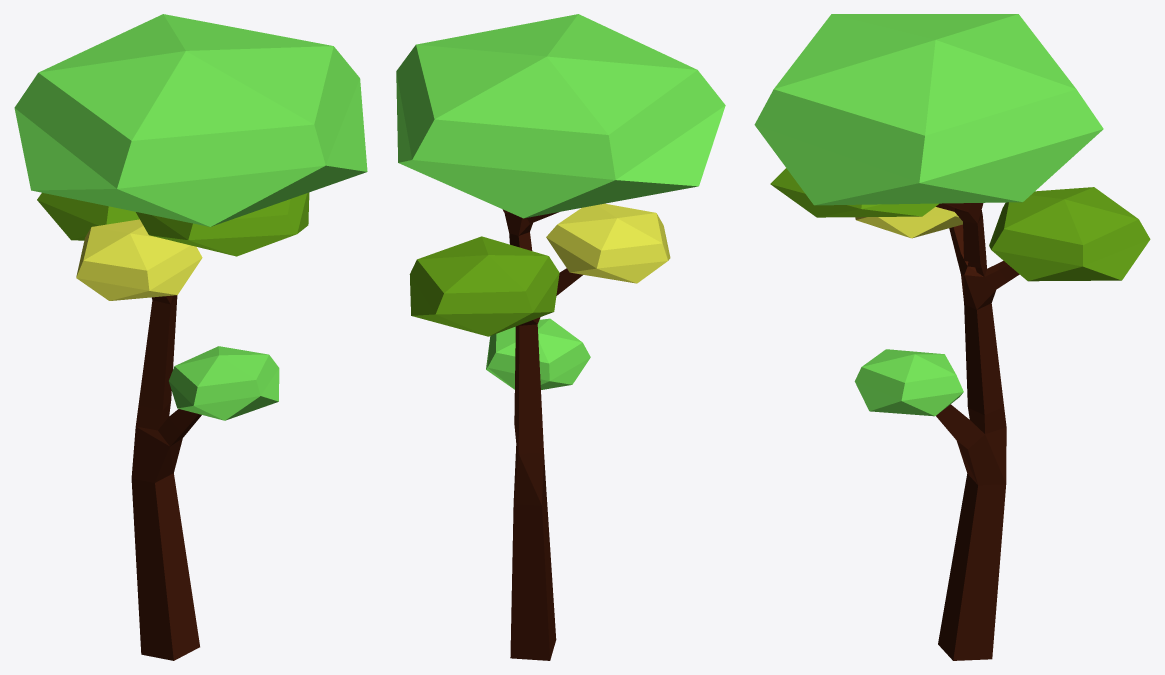
The model's file is RoundTree_v2.fbx.
3 views of the same model, side by side, from view 1: azimuth 30°, elevation 25°; view 2: azimuth 150°, elevation 25°; view 3: azimuth 270°, elevation 25° (orthographic). The views are drawn at different scales.
Visible parts, largest first — view 1: BigLeaf, TreeTrunk, 2ndRowLeaf_2, LowLeaf, Leaf, 2ndRowLeaf; view 2: BigLeaf, TreeTrunk, 2ndRowLeaf, 2ndRowLeaf_2, LowLeaf; view 3: BigLeaf, TreeTrunk, 2ndRowLeaf, LowLeaf, Leaf, 2ndRowLeaf_2.
Boxes of the visible parts, bbox=[...] form: BigLeaf: bbox=[14, 14, 367, 226]; TreeTrunk: bbox=[131, 295, 201, 660]; 2ndRowLeaf_2: bbox=[76, 219, 202, 300]; LowLeaf: bbox=[169, 346, 279, 420]; Leaf: bbox=[136, 192, 309, 256]; 2ndRowLeaf: bbox=[37, 192, 139, 240]; BigLeaf: bbox=[396, 14, 725, 218]; TreeTrunk: bbox=[502, 209, 582, 660]; 2ndRowLeaf: bbox=[409, 236, 559, 336]; 2ndRowLeaf_2: bbox=[546, 203, 670, 283]; LowLeaf: bbox=[486, 318, 590, 389]; BigLeaf: bbox=[754, 14, 1103, 205]; TreeTrunk: bbox=[936, 203, 1019, 660]; 2ndRowLeaf: bbox=[989, 187, 1150, 281]; LowLeaf: bbox=[854, 349, 963, 416]; Leaf: bbox=[770, 168, 938, 217]; 2ndRowLeaf_2: bbox=[855, 207, 962, 238].
Bounding box in the file's own units: 531 × 961 × 561.
